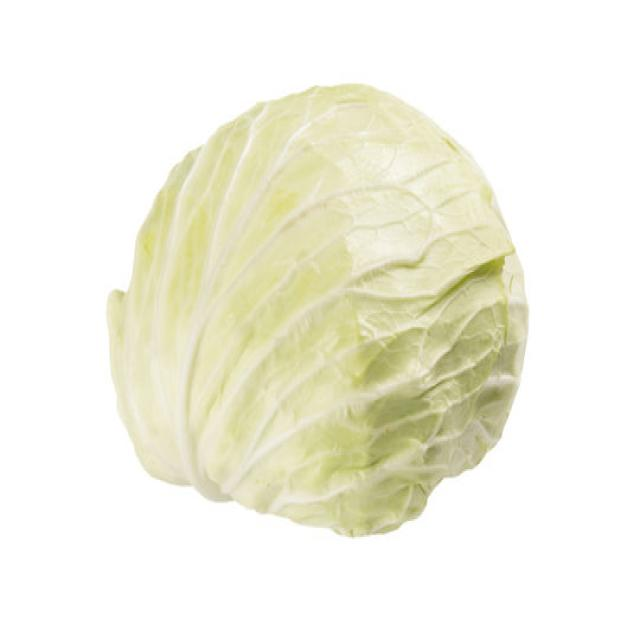Cabbage: (106, 80, 528, 539)
